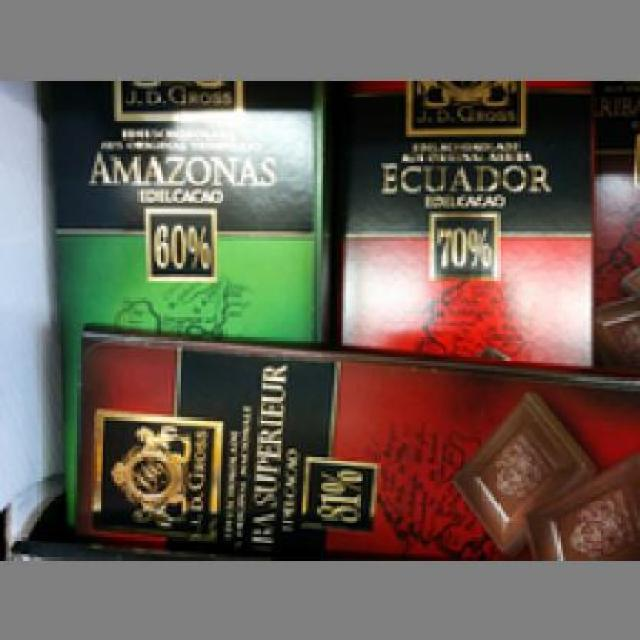Chocolate bar: (60, 320, 637, 557), (40, 77, 326, 334), (349, 74, 594, 357)
